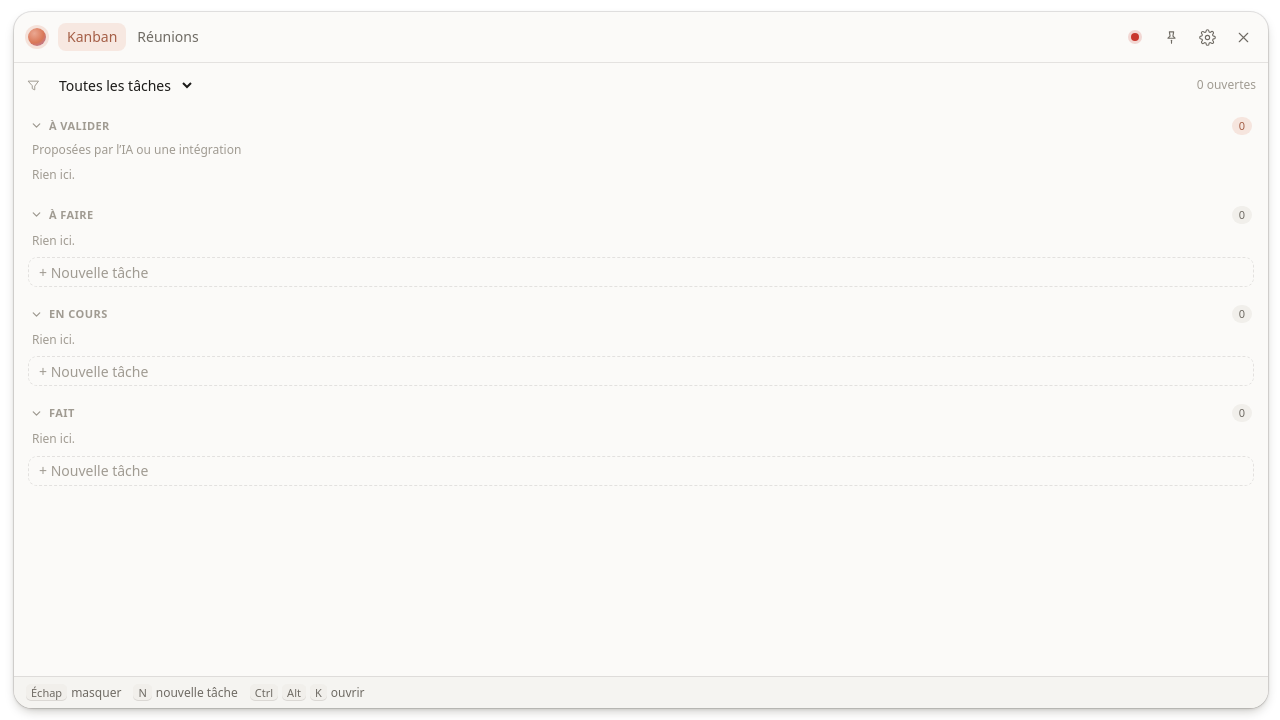
App › creates a task via quick add
Type "Envoyer le CR" into the 1st field with placeholder "+ Nouvelle tâche" at (641,272), box [28, 257, 1254, 287]
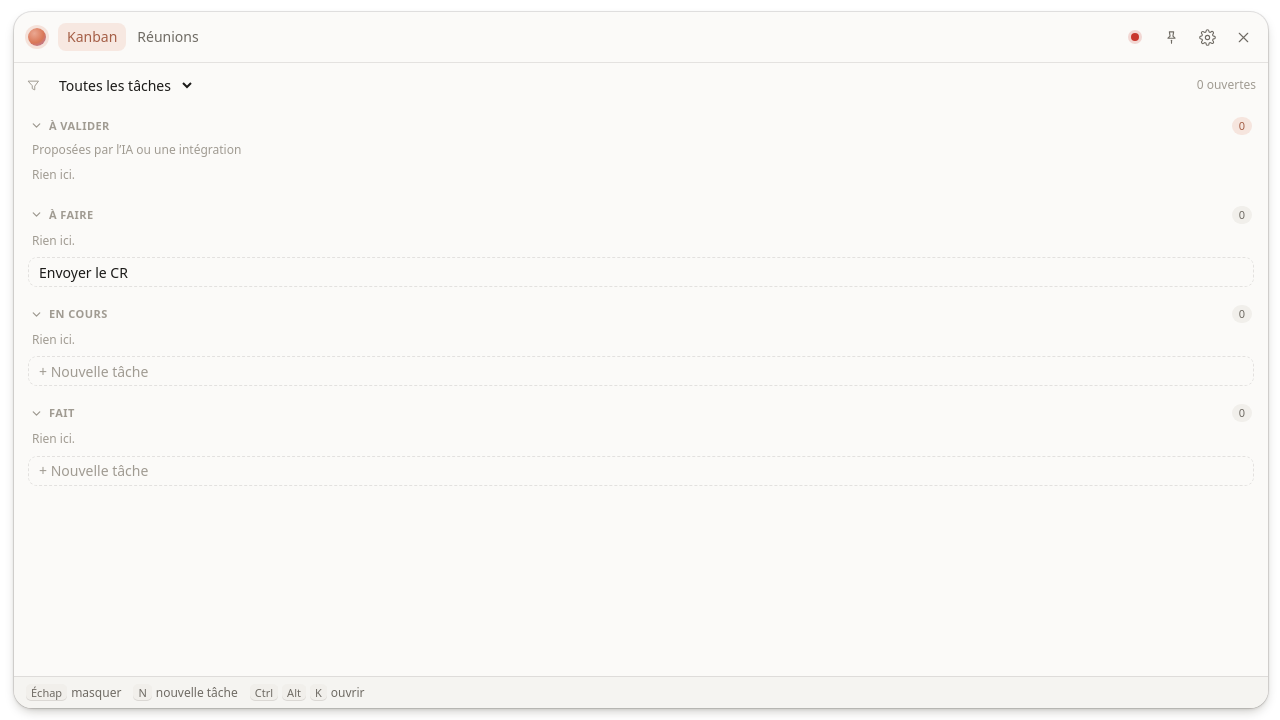
Press Enter in the 1st field, box [28, 257, 1254, 287]
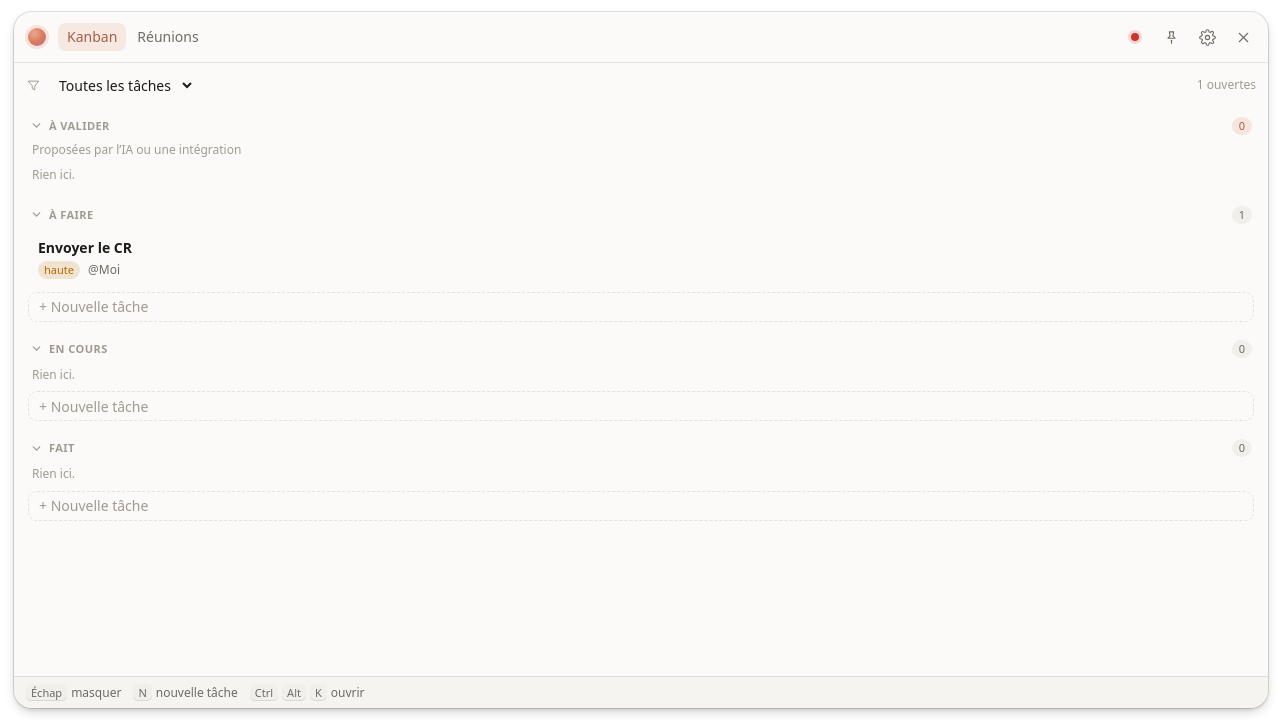
Check: the text "Envoyer le CR" is shown, box [38, 238, 132, 257]
